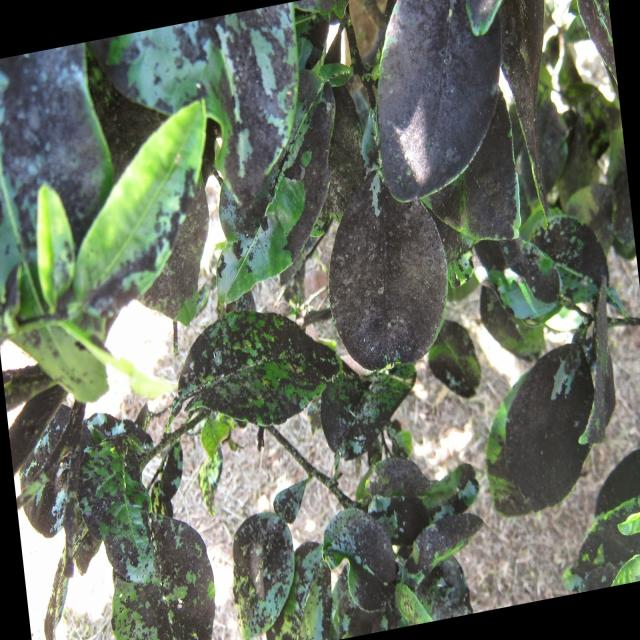Sooty Mold: (0, 0, 603, 331), (0, 280, 448, 640)
